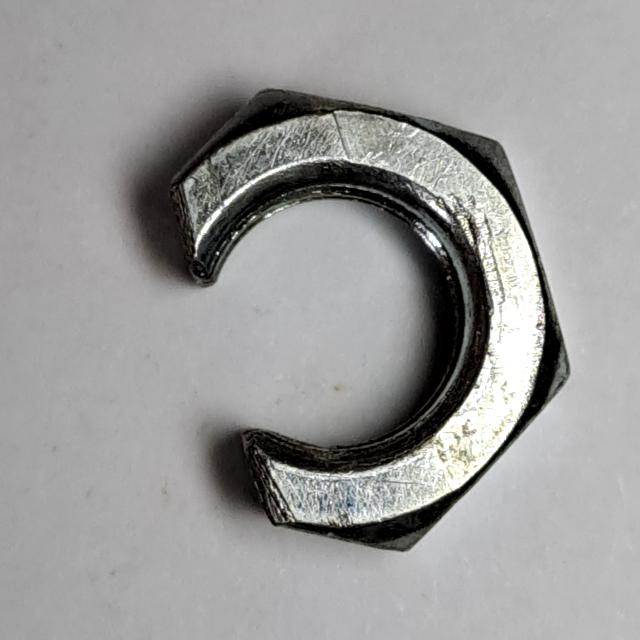Fracture: (156, 72, 584, 575)
